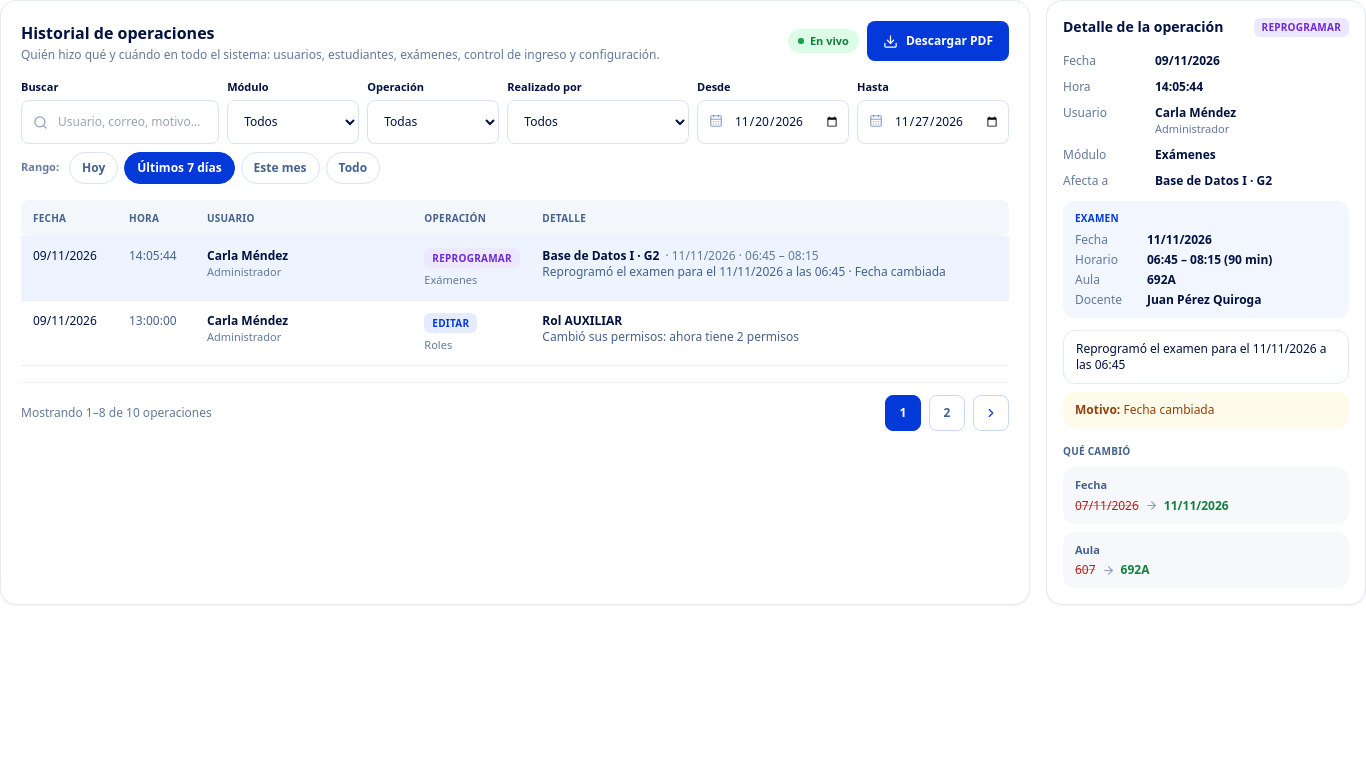
Scenario: Historial de operaciones del ADMIN › muestra a qué afectó, el resumen, el motivo y los cambios legibles (sin JSON)
Later steps or results of the test are not shown.
Expected: the heading "Historial de operaciones" is shown, [21, 22, 214, 44]
Expected: the field named "Buscar usuario o detalle" is shown, [21, 100, 219, 144]
Note: Al elegir otra fila, su detalle: permiso agregado y quitado.
Click the row "Rol AUXILIAR" at {"x": 515, "y": 332}, box [21, 300, 1009, 365]
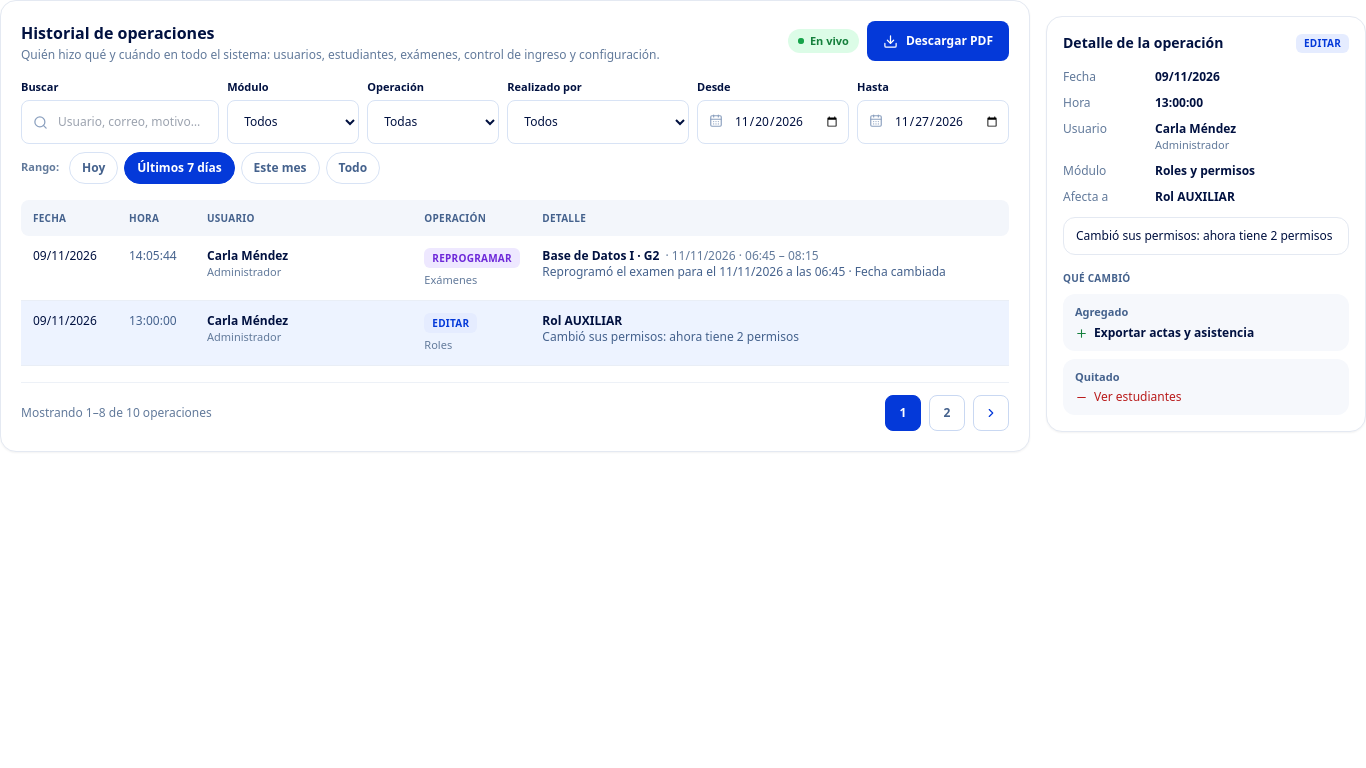
Result: the text "Exportar actas y asistencia" is shown at [1075, 324, 1254, 340]
Result: the text "Ver estudiantes" is shown at [1075, 388, 1182, 405]
